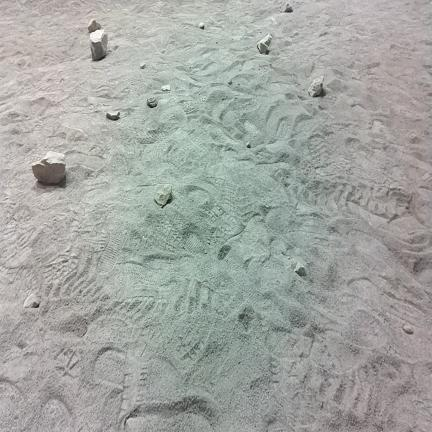Rock: (32, 151, 65, 183), (90, 30, 107, 60), (155, 184, 171, 206), (308, 76, 324, 97), (258, 34, 272, 53), (24, 294, 39, 308), (292, 262, 306, 277), (88, 19, 101, 32), (281, 0, 292, 12), (147, 98, 158, 108), (107, 112, 120, 120), (403, 324, 413, 334), (162, 85, 170, 91), (140, 61, 146, 68), (199, 22, 204, 29), (246, 142, 251, 148), (228, 79, 232, 85)
